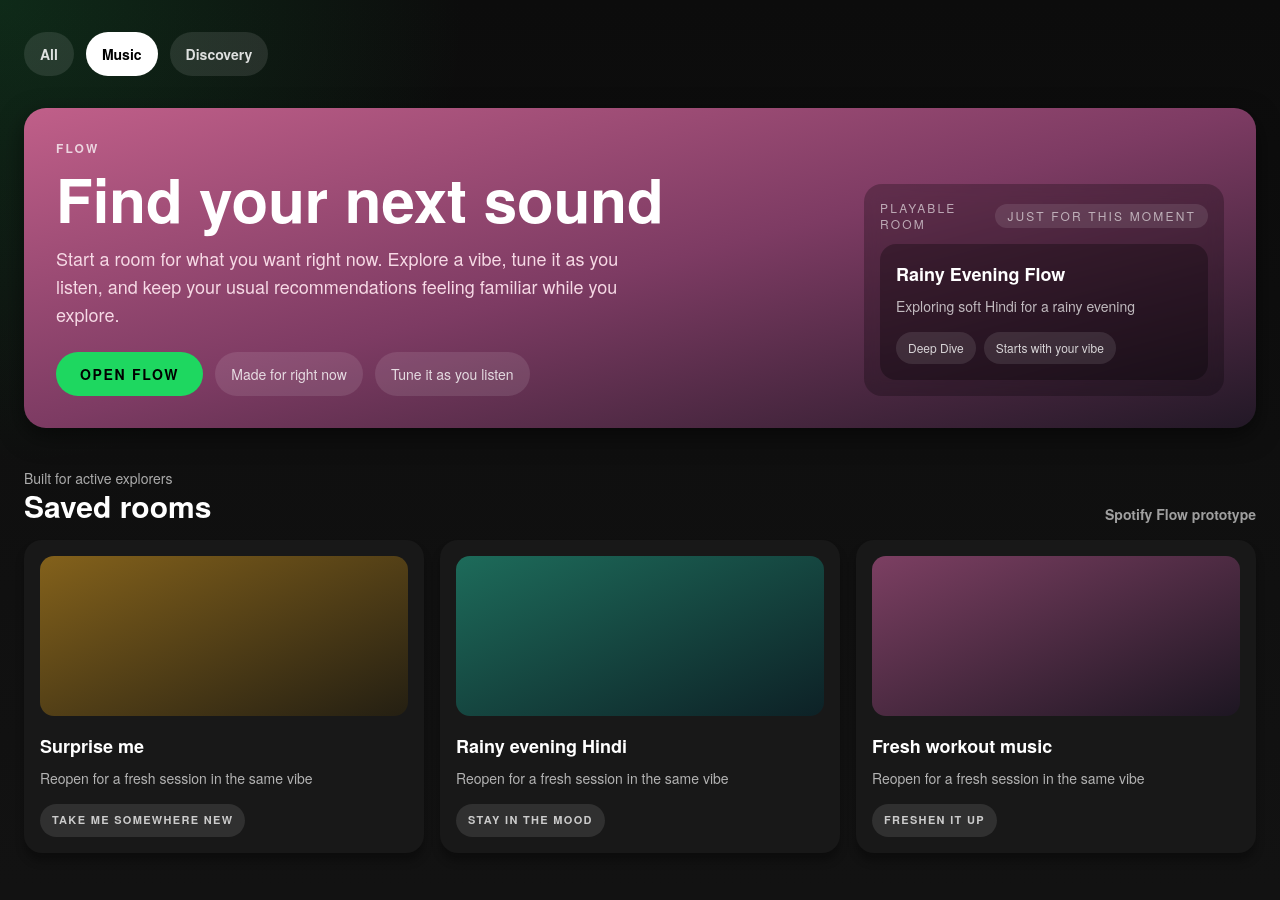
Test: HomeView launcher flow › shows the locked all-saved launcher state when every demo is already saved
The width and height of the screenshot is (1280, 900).
Click the button "Open Flow": (130, 374) [56,352,203,396]
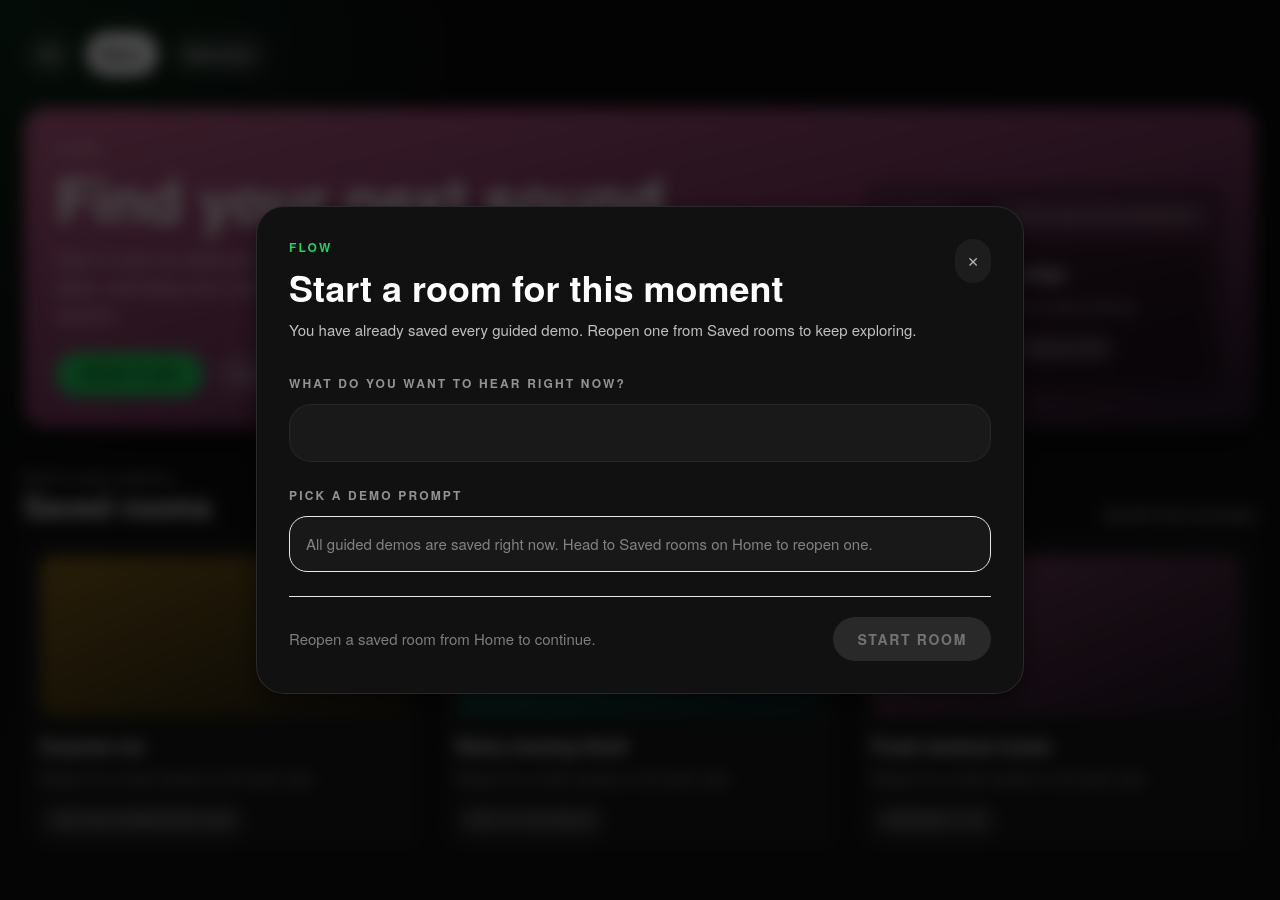
Check: the text "You have already saved every guided demo" is shown, box [289,319,916,340]
Check: the text "All guided demos are saved right now" is shown, box [306,532,873,554]
Check: the button "Start room" is disabled, box [833,617,991,661]
